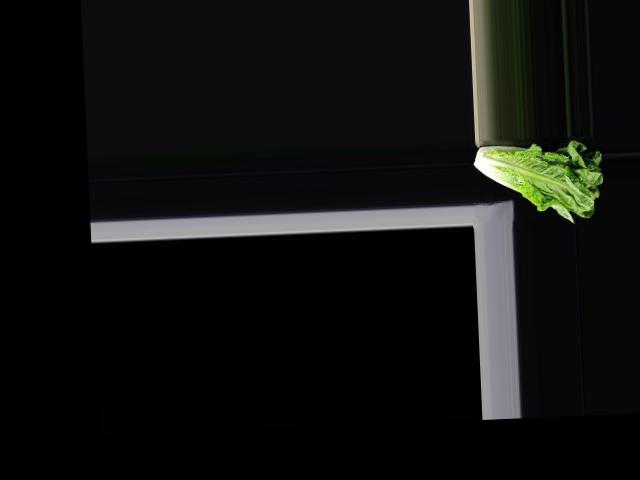lettuce: (471, 138, 607, 226)
